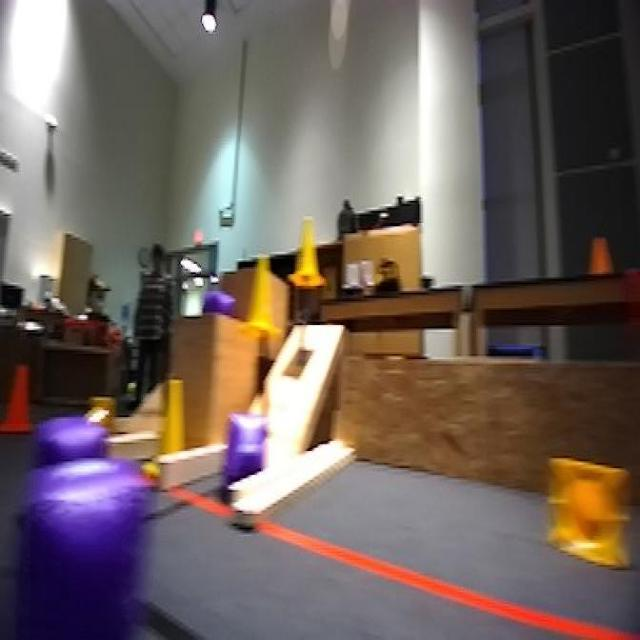frc_cone: (548, 456, 630, 570), (142, 373, 195, 485), (245, 244, 281, 340), (75, 390, 115, 437), (296, 220, 320, 296)
frc_cube: (18, 459, 153, 640), (218, 417, 264, 499), (30, 417, 102, 463), (195, 291, 235, 317)
